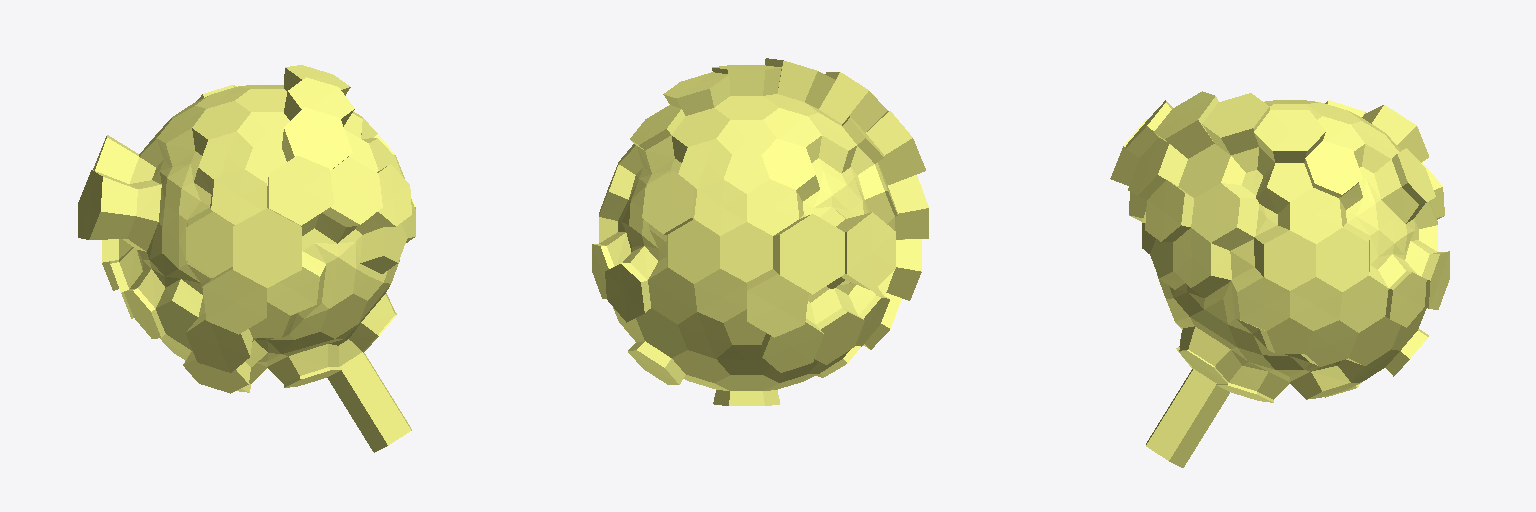
File: Ground2.obj
The picture shows the model from 3 angles: view 1: azimuth 30°, elevation 25°; view 2: azimuth 150°, elevation 25°; view 3: azimuth 270°, elevation 25°; orthographic projection.
Parts seen in each view (by area): view 1: Ground2_GD_mesh.008; view 2: Ground2_GD_mesh.008; view 3: Ground2_GD_mesh.008.
Part boxes in pixels (x1,y1,x2,y2): Ground2_GD_mesh.008: (78,65,415,452); Ground2_GD_mesh.008: (592,58,928,405); Ground2_GD_mesh.008: (1110,91,1449,467).
Size of the model in its own units: 4.5 by 5 by 4.49.